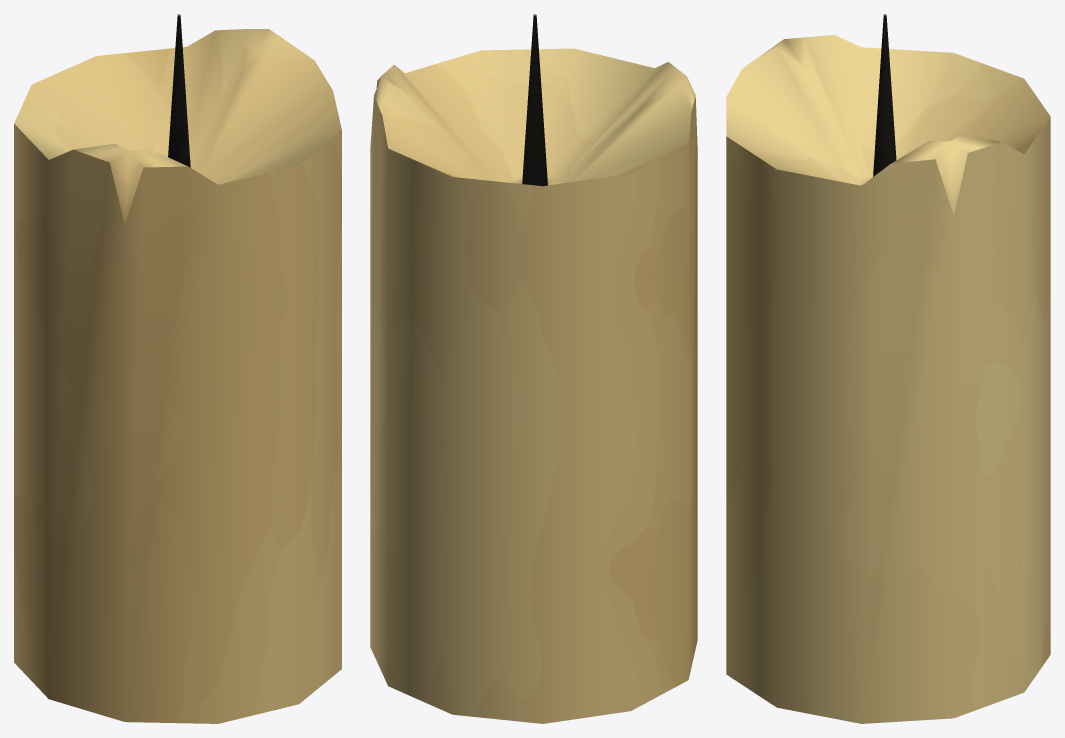
The model's file is candle.fbx.
3 views of the same model, side by side, from view 1: azimuth 30°, elevation 25°; view 2: azimuth 150°, elevation 25°; view 3: azimuth 270°, elevation 25° (orthographic).
Parts seen in each view (by area): view 1: candle; view 2: candle; view 3: candle.
Part boxes in pixels (box(x1,y1,x2,y2)): candle: box(14, 14, 341, 723); candle: box(370, 14, 697, 723); candle: box(726, 14, 1050, 723).
Size of the model in its own units: 0.1871 by 0.4032 by 0.1852.
1 material, 1 textured.
